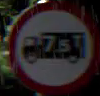Heavy Vehicles: (6, 0, 98, 93)
